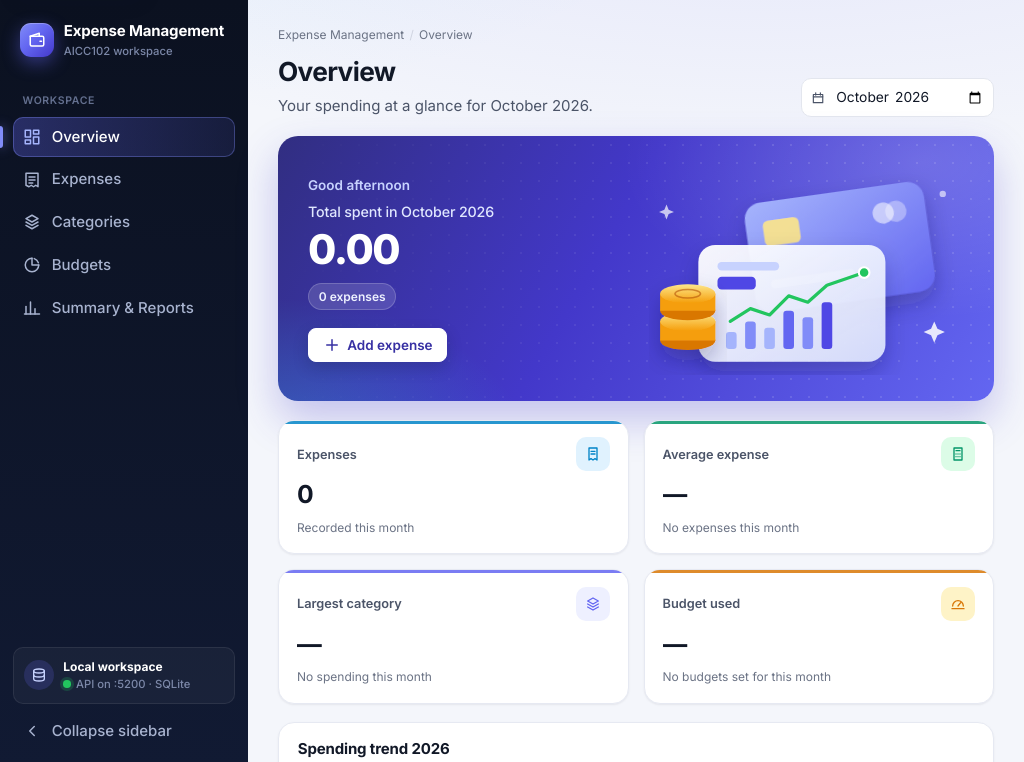
it: App › clicking a navigation item → switches page and marks it current
This screenshot has width=1024, height=762.
Click the button "Budgets".
click(124, 265)  # box [13,245,235,285]
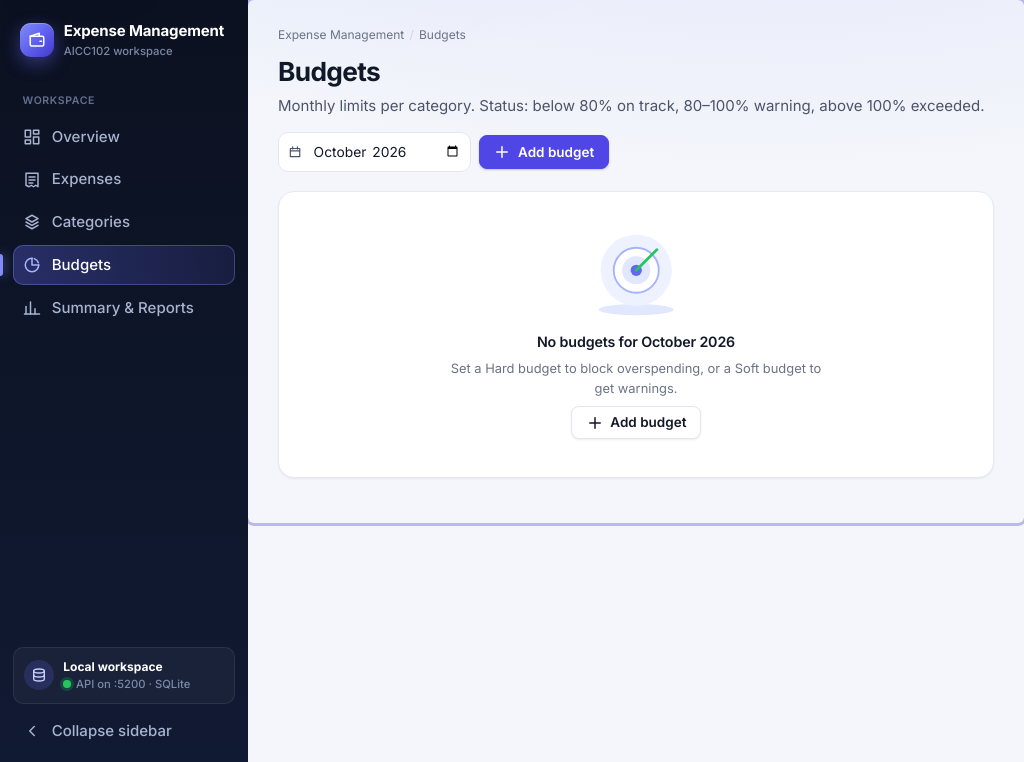
Result: the heading "Budgets" is shown at [278,56,380,87]
